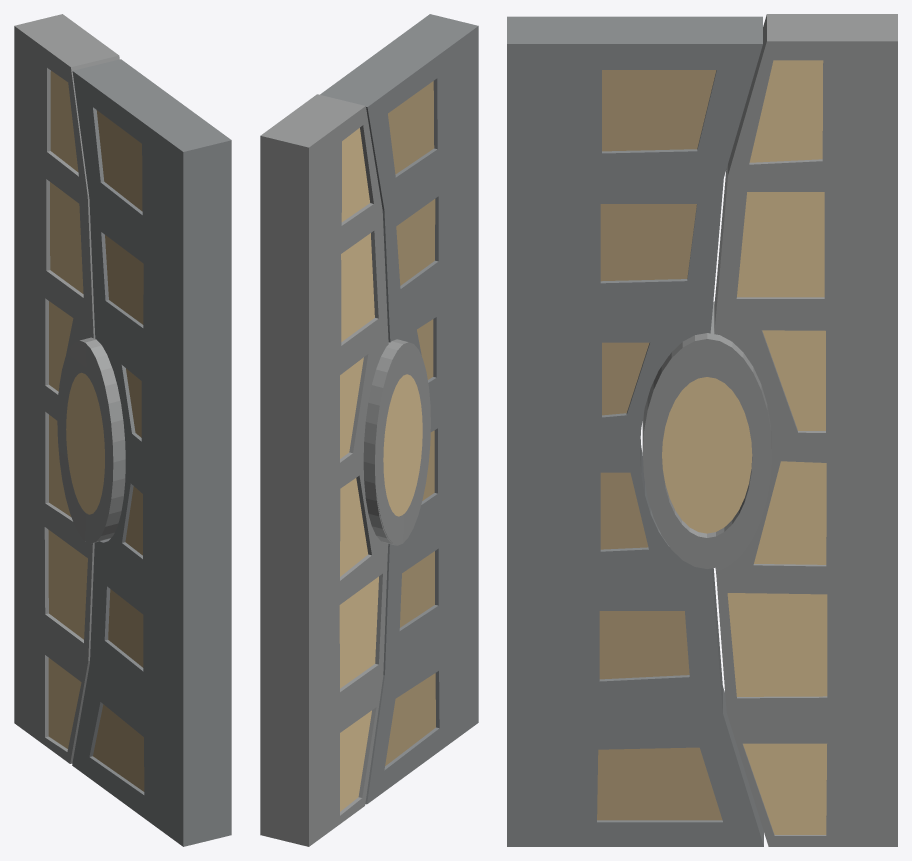
The model's file is tür.fbx.
3 views of the same model, side by side, from view 1: azimuth 30°, elevation 25°; view 2: azimuth 150°, elevation 25°; view 3: azimuth 270°, elevation 25° (orthographic). The views are drawn at different scales.
Parts seen in each view (by area): view 1: Door Left, Door Right; view 2: Door Right, Door Left; view 3: Door Left, Door Right.
Boxes of the visible parts, box(x1,y1,x2,y2) form: Door Left: box(72, 59, 231, 846); Door Right: box(14, 14, 125, 763); Door Right: box(260, 94, 430, 846); Door Left: box(320, 14, 478, 804); Door Left: box(507, 16, 763, 846); Door Right: box(642, 14, 897, 846).
Bounding box in the file's own units: 295 × 2750 × 1209.
